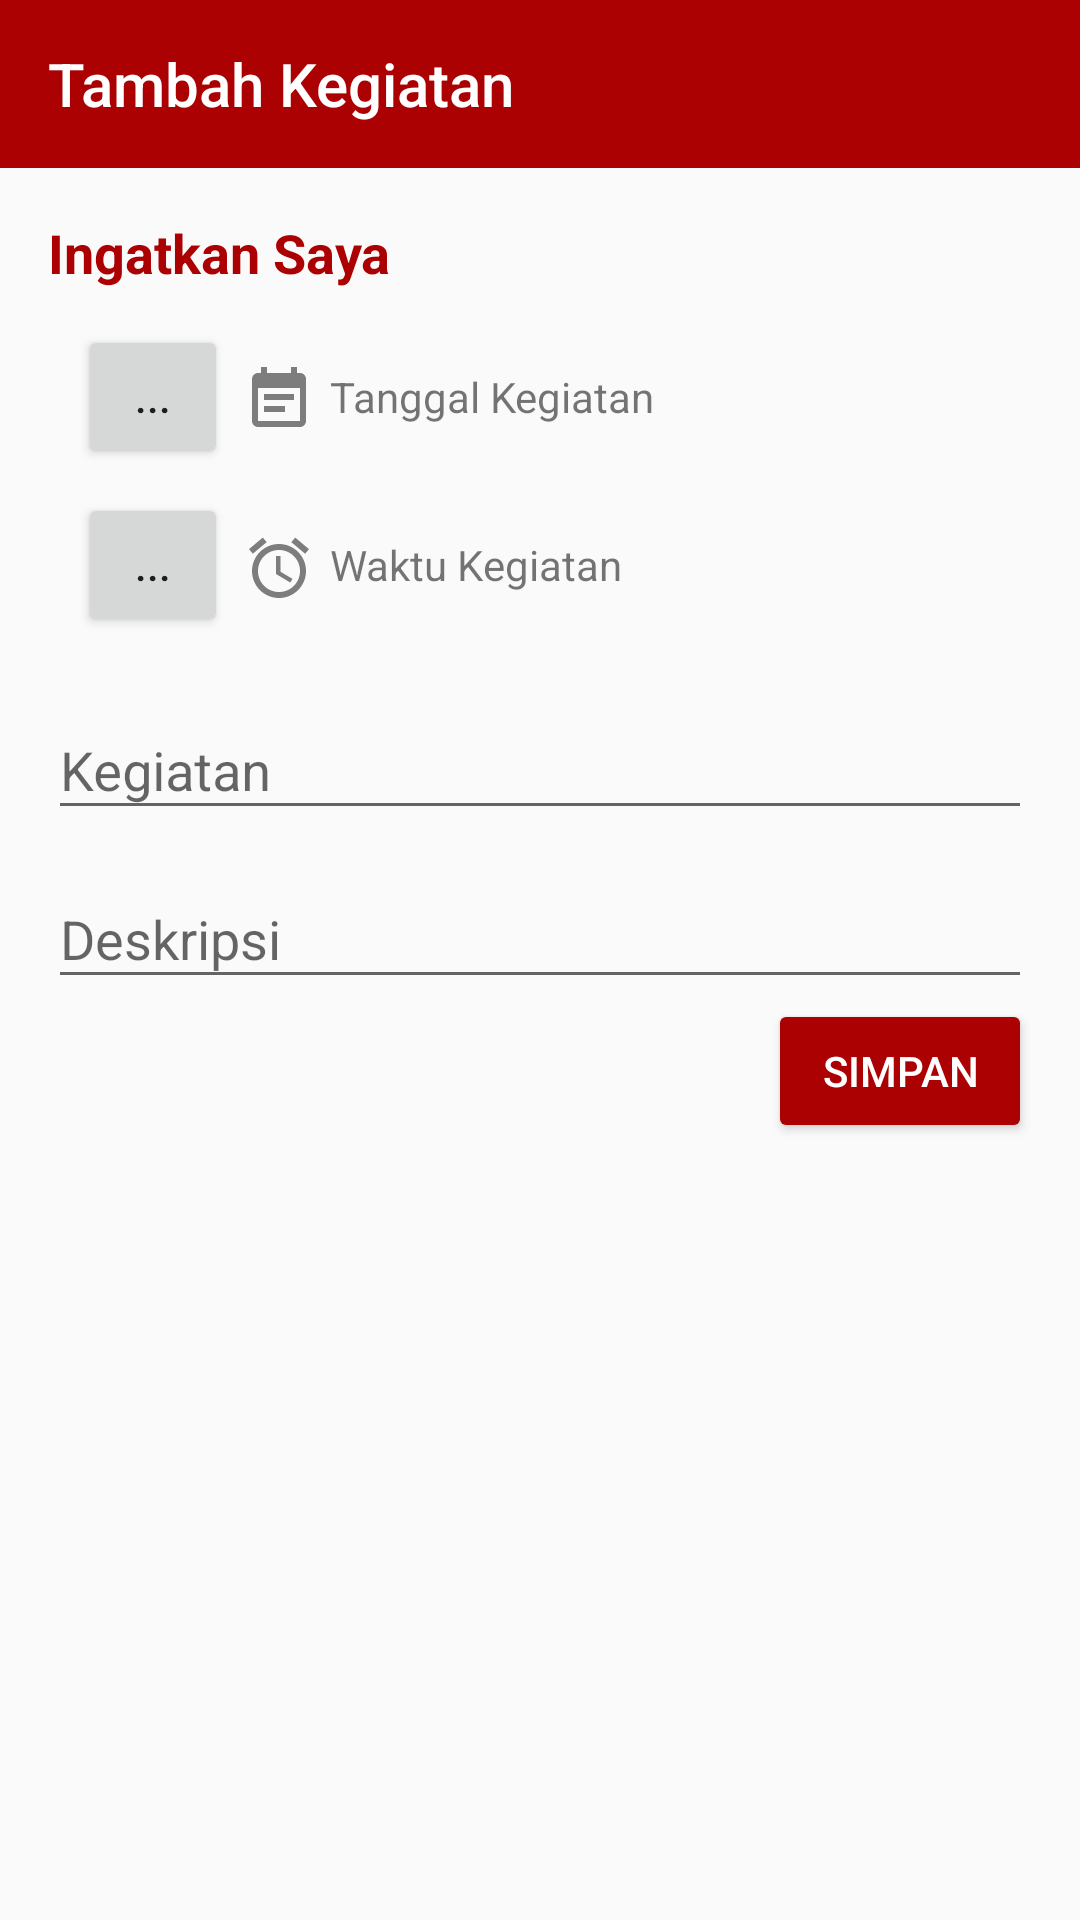

Locate icon controls on the screen. Image size 1080 × 1920, boxes as (x1, y1, x2, y2).
access alarm: (249, 538, 309, 598)
event note: (252, 367, 306, 427)
